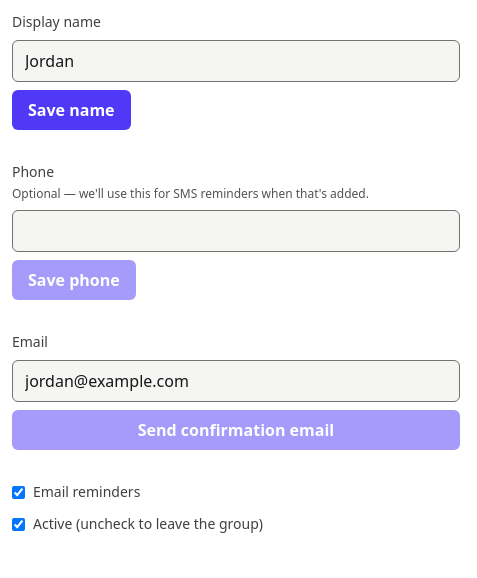
Scenario: SettingsForm › shows the server error when phone save fails
Type "bad" into the field labelled "Phone" at {"x": 236, "y": 231}, box [12,210,460,252]
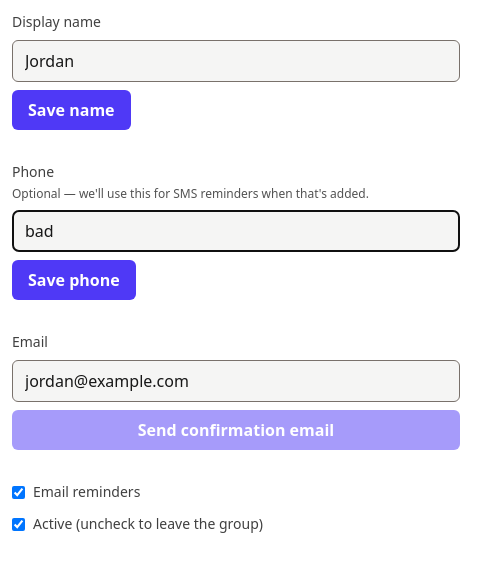
Click the button "Save phone" at {"x": 74, "y": 280}, box [12,260,136,300]
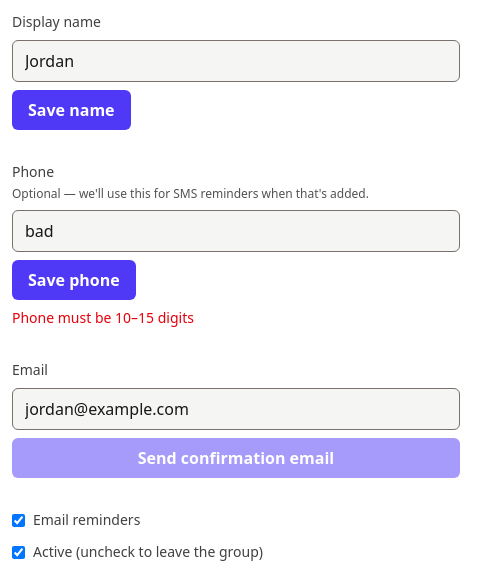
Result: the text "Phone must be 10–15 digits" is shown at [12,308,194,327]
